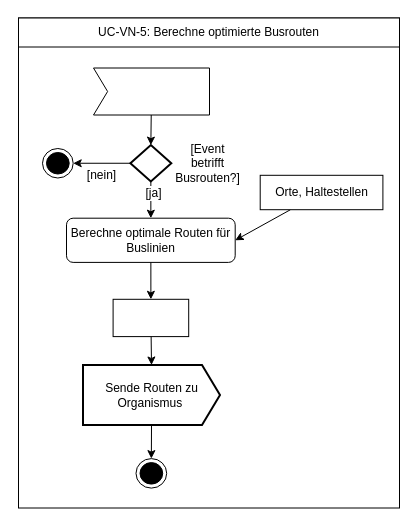
The diagram is 417 pixels wide and 525 high, and some of its shapes have lost their labels. Here are the shapes that lost their labels. From the top down, the box of each, then its label:
(92, 67, 210, 115): Event
(112, 298, 189, 337): Routen
